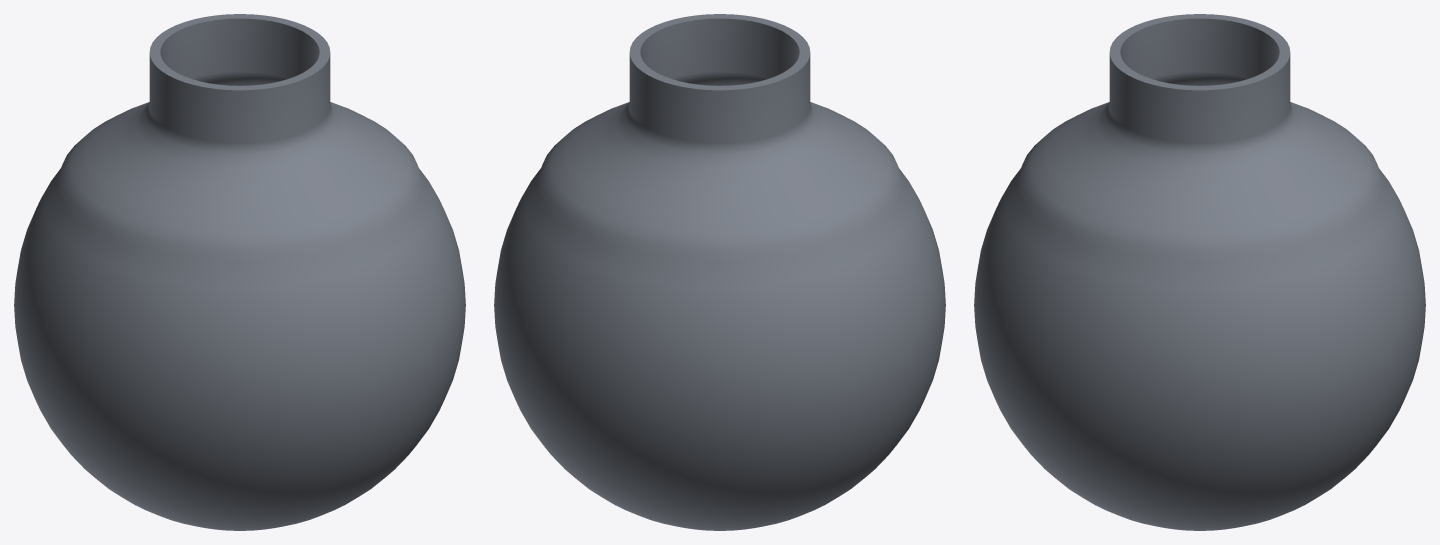
Rendered from jar_round.obj.
3 views of the same model, side by side, from view 1: azimuth 30°, elevation 25°; view 2: azimuth 150°, elevation 25°; view 3: azimuth 270°, elevation 25° (orthographic).
Parts seen in each view (by area): view 1: jar_round; view 2: jar_round; view 3: jar_round.
Part boxes in pixels (x1=…): jar_round: x1=14, y1=14, x2=465, y2=530; jar_round: x1=494, y1=14, x2=945, y2=530; jar_round: x1=974, y1=14, x2=1425, y2=530.
Bounding box in the file's own units: 0.17 × 0.19 × 0.17.
1 material, 1 textured.
